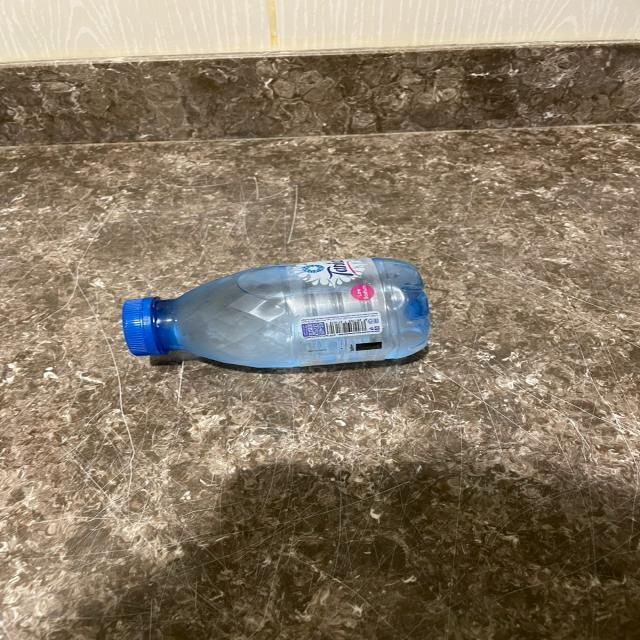chai: (124, 258, 429, 369)
